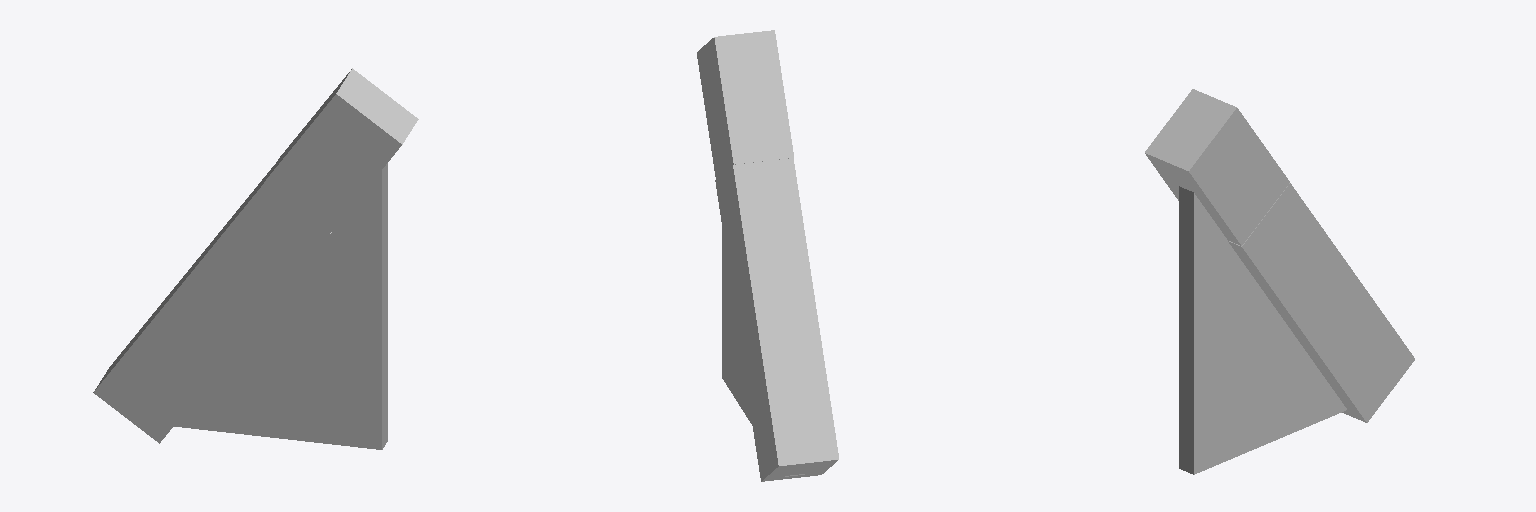
File: mt_roof_stairs_hip_steep.obj
3 views of the same model, side by side, from view 1: azimuth 30°, elevation 25°; view 2: azimuth 150°, elevation 25°; view 3: azimuth 270°, elevation 25° (orthographic).
Visible parts, largest first — view 1: cube; view 2: cube; view 3: cube.
Boxes of the visible parts, <box> form: cube: <box>93,68,418,449</box>; cube: <box>697,30,838,481</box>; cube: <box>1145,89,1414,474</box>.
Bounding box in the file's own units: 1.61 × 2.44 × 1.62.